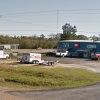Bus: (53, 36, 100, 61)
